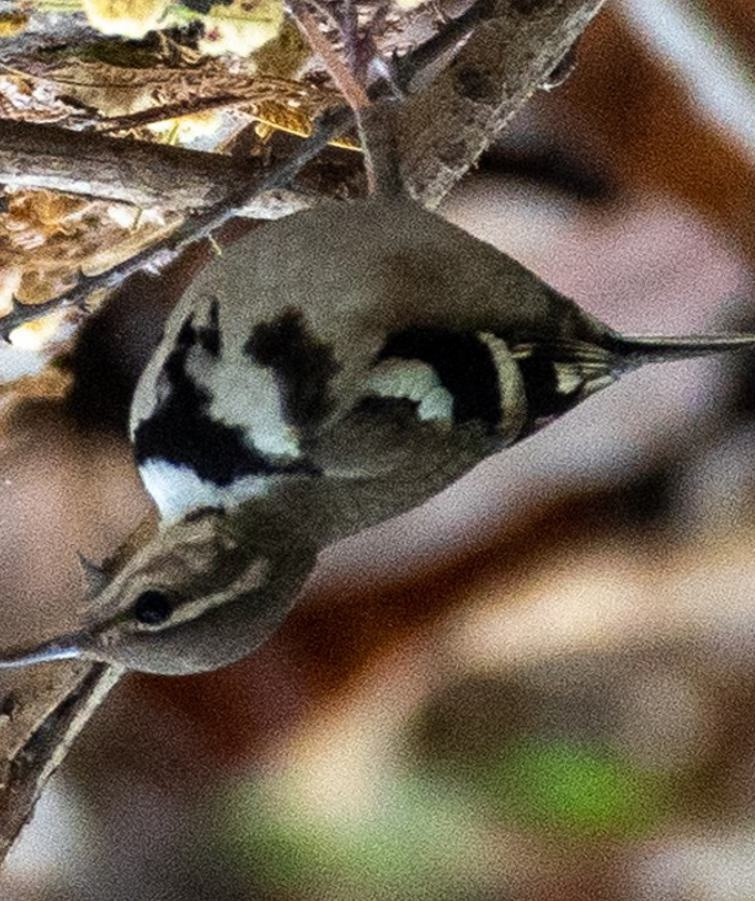wagtail: (1, 68, 752, 703)
